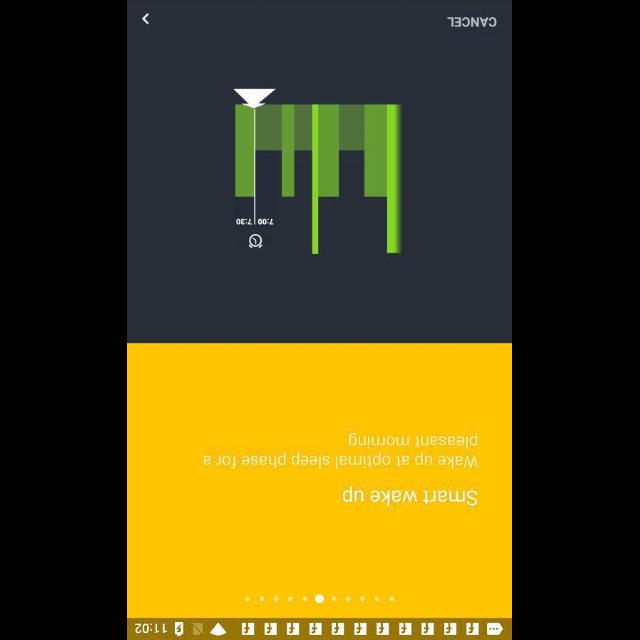icon: (142, 13, 150, 25)
image: (234, 89, 402, 254)
pageindicator: (244, 592, 396, 604)
text: (205, 432, 480, 470), (343, 485, 479, 507), (448, 16, 497, 28)
uppertaskbar: (128, 617, 512, 639)
